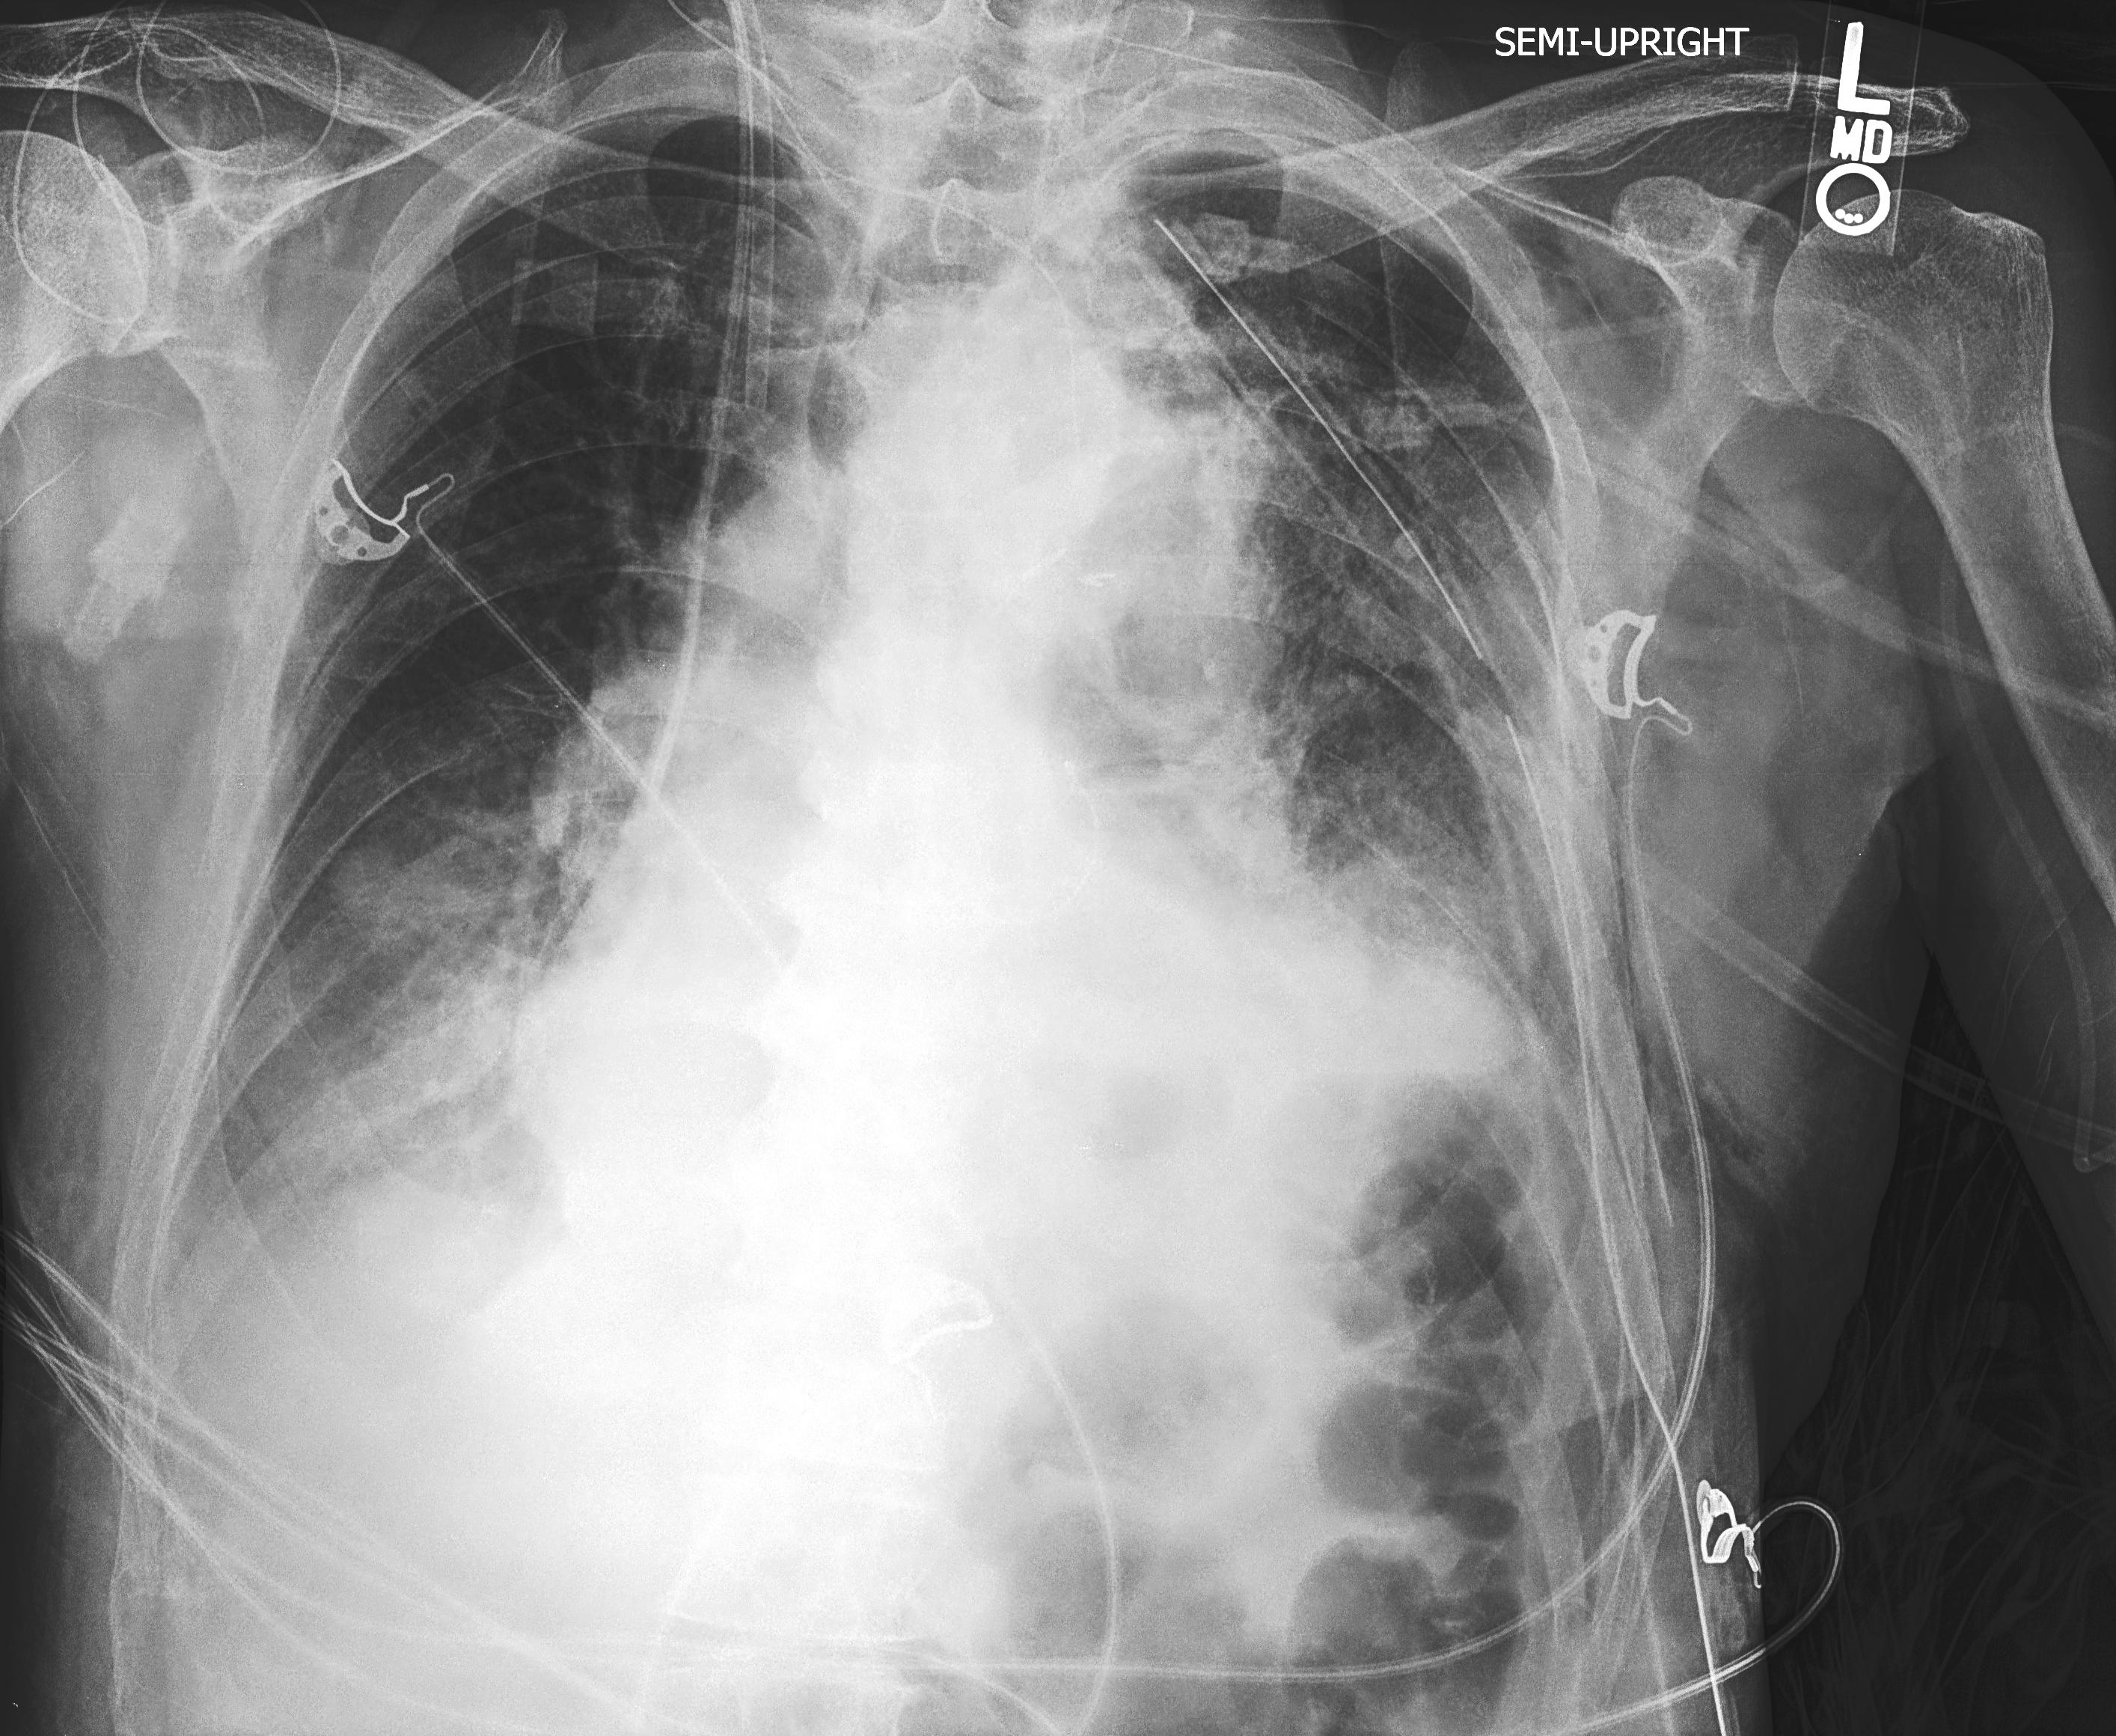Pleural Effusion: (1279, 949, 1656, 1233)
